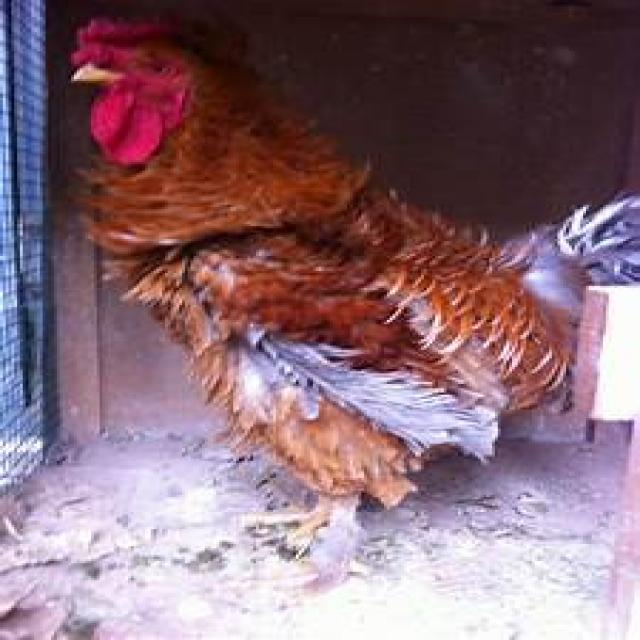hen: (57, 13, 640, 510)
